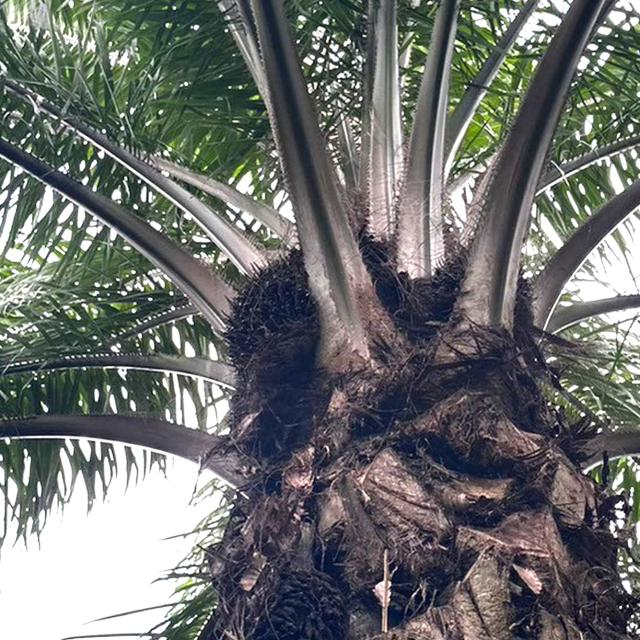unripe: (214, 237, 340, 392), (414, 223, 547, 340)
